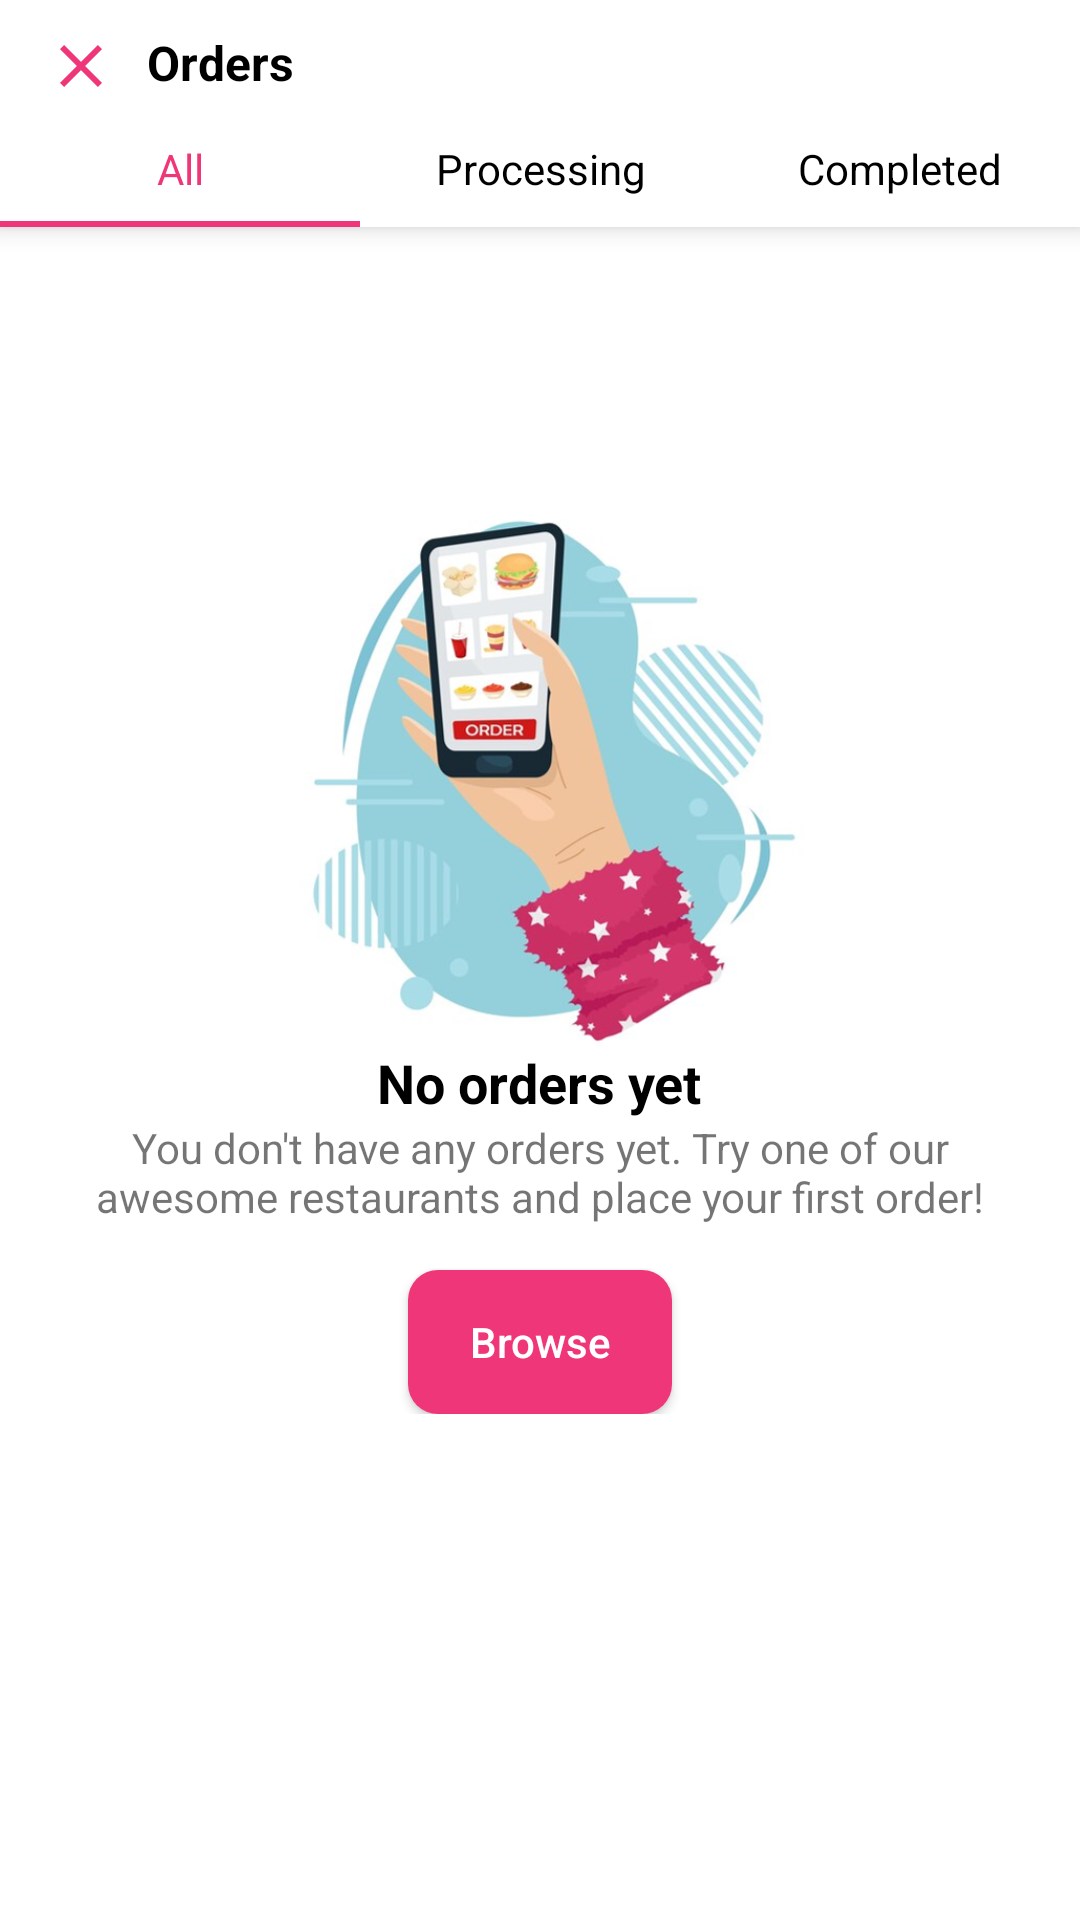

Where icons sit on this 1080px×1920px app screen, as box(x1, y1, x2, y2):
close: box(60, 45, 102, 87)
